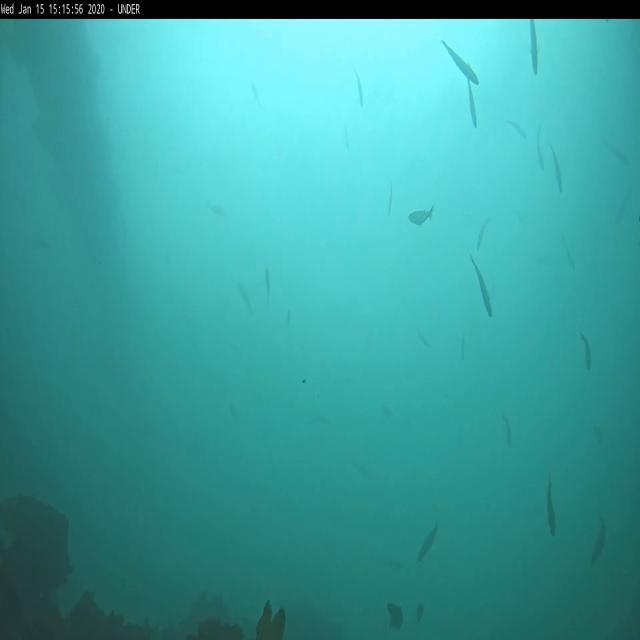fish: (441, 40, 479, 84), (471, 254, 492, 318), (592, 514, 607, 566), (546, 480, 559, 537), (549, 144, 563, 192), (419, 527, 438, 560), (407, 205, 435, 225), (466, 74, 476, 128), (529, 20, 539, 74), (477, 216, 493, 248), (500, 408, 512, 448), (352, 66, 365, 102), (608, 144, 628, 167), (538, 124, 545, 172), (582, 335, 592, 367), (506, 120, 525, 136), (240, 290, 250, 316), (266, 269, 272, 302), (388, 186, 393, 218)
